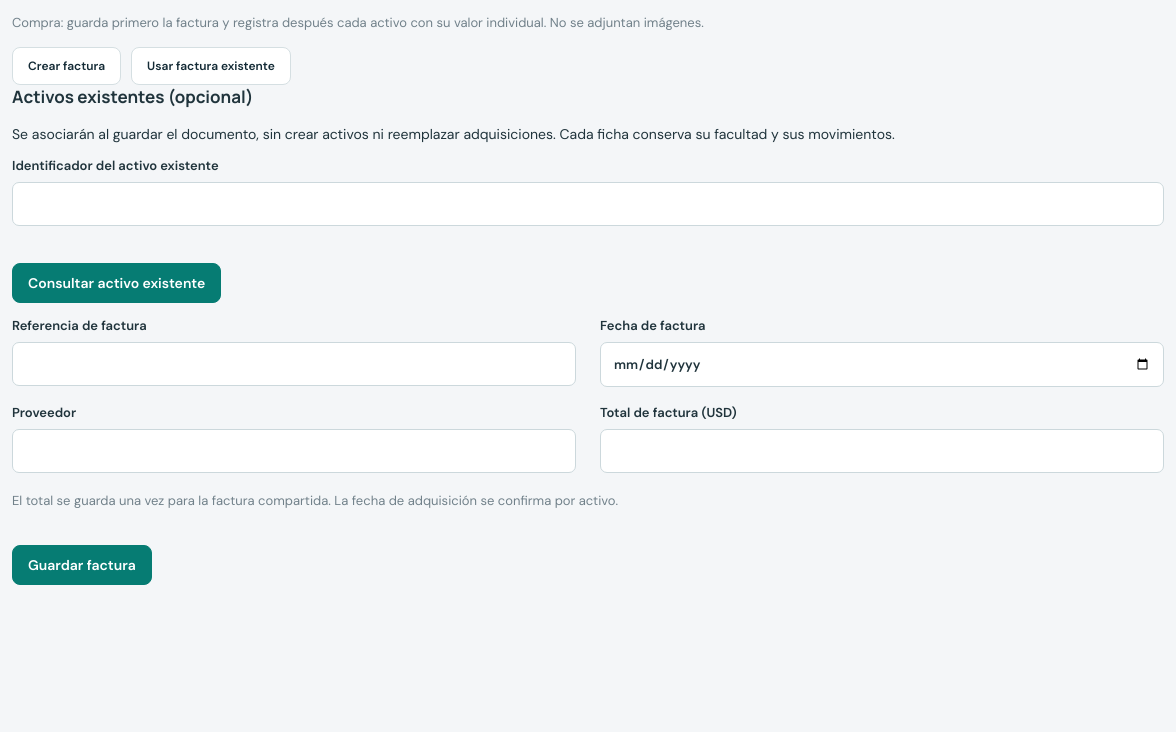
error de red de factura no anuncia éxito ni reintenta automáticamente
This screenshot has width=1176, height=732.
Type "TEST-FACTURA" into the field labelled "Referencia de factura".
click(294, 364); type("TEST-FACTURA")  # box [12,342,576,386]
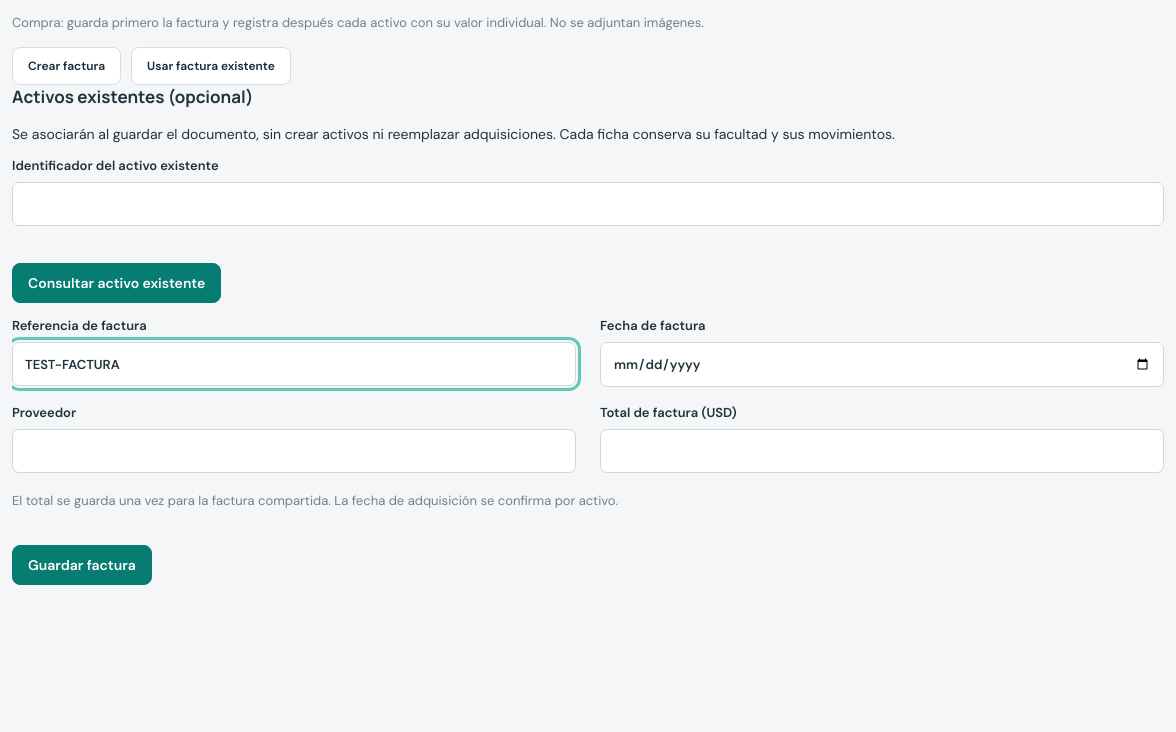
Type "2026-01-15" into the date field labelled "Fecha de factura".
click(882, 365); type("2026-01-15")  # box [600,342,1164,387]
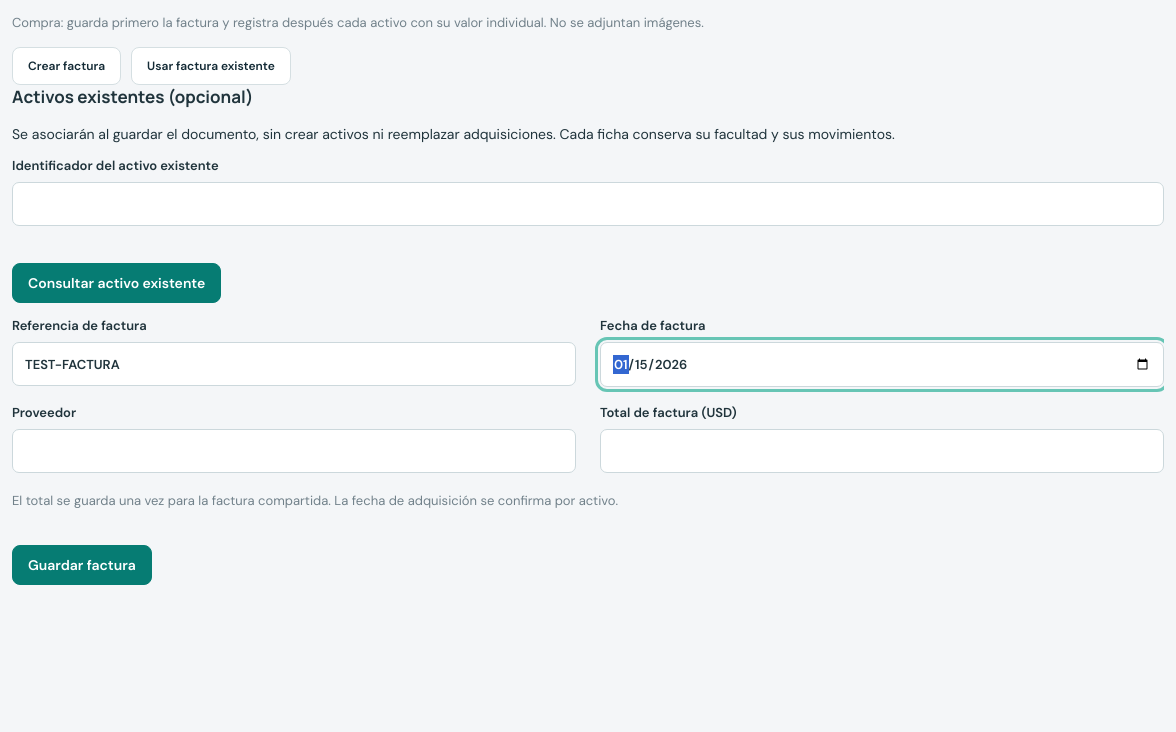
Type "Proveedor ficticio" into the field labelled "Proveedor".
click(294, 451); type("Proveedor ficticio")  # box [12,429,576,473]
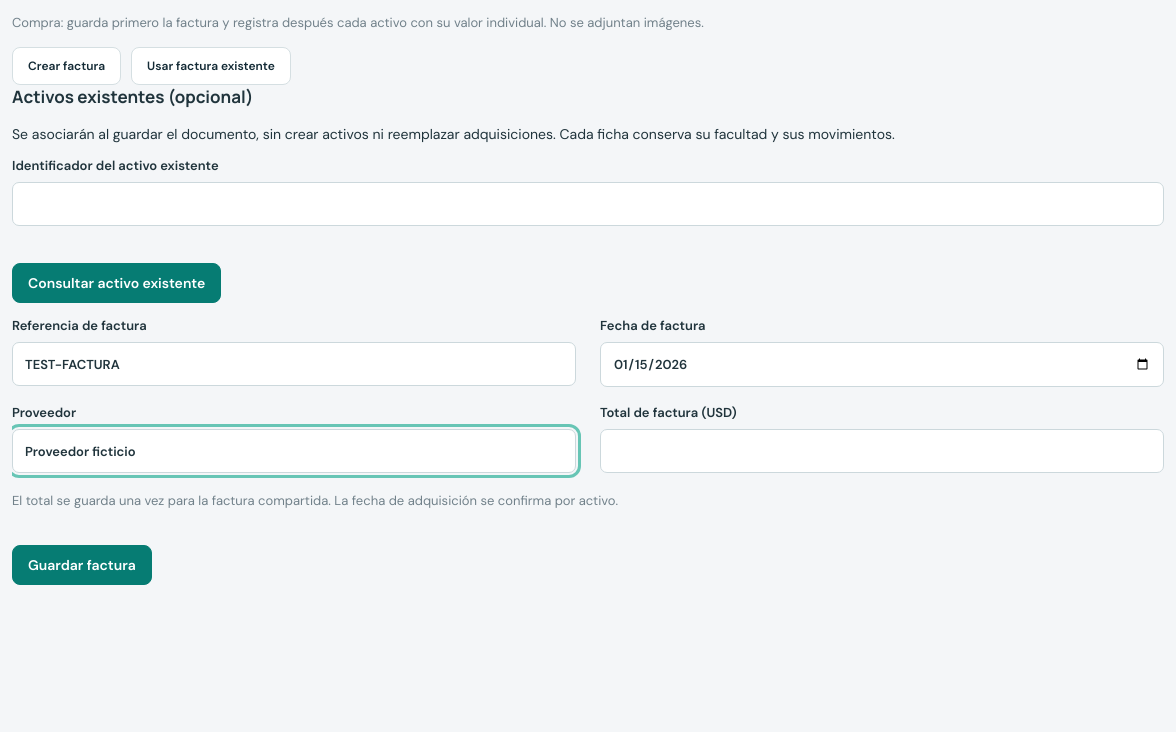
Type "1000.00" into the field labelled "Total de factura (USD)".
click(882, 451); type("1000.00")  # box [600,429,1164,473]
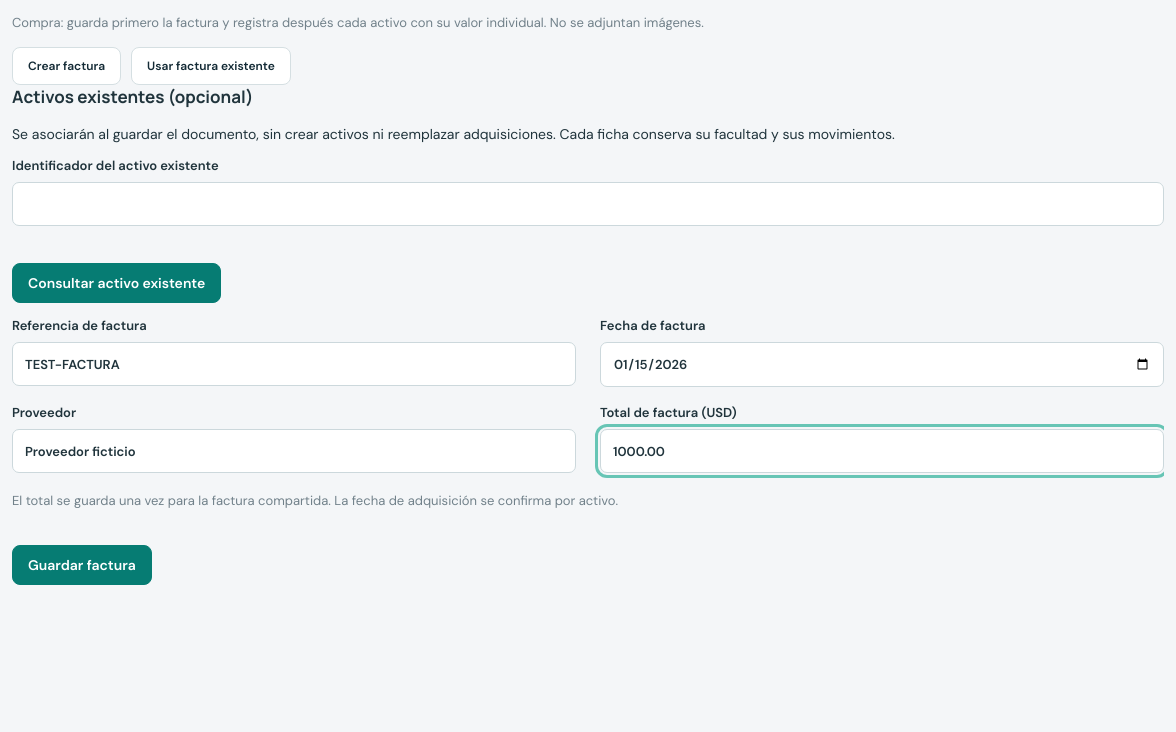
Click the button "Guardar factura".
click(82, 565)  # box [12,545,152,585]
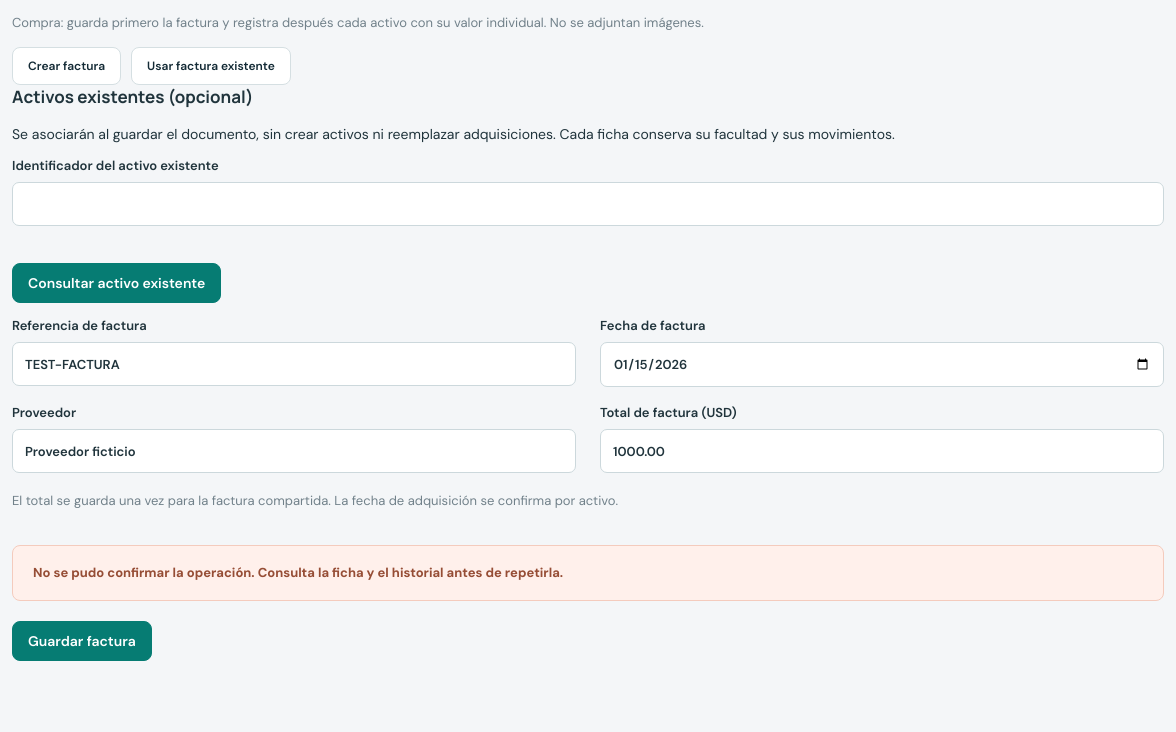
Expected: the message shows "No se pudo confirmar", [33,564,563,581]
